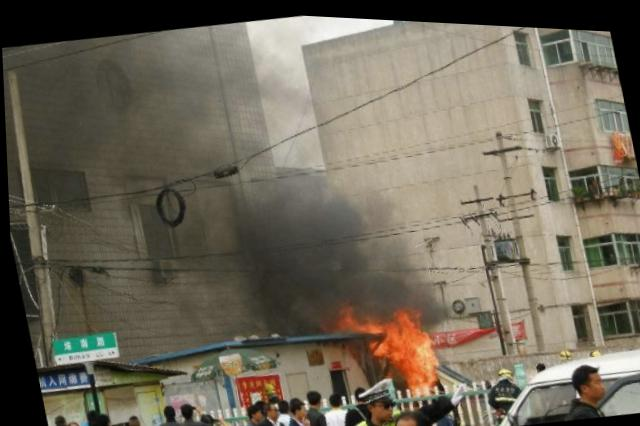fire: (385, 297, 440, 387), (368, 329, 393, 357), (355, 311, 388, 329), (335, 299, 356, 326)
